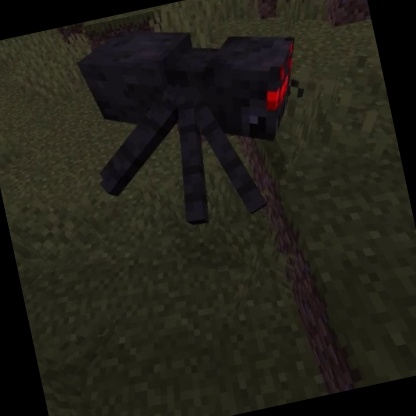spider: (64, 0, 333, 251)
